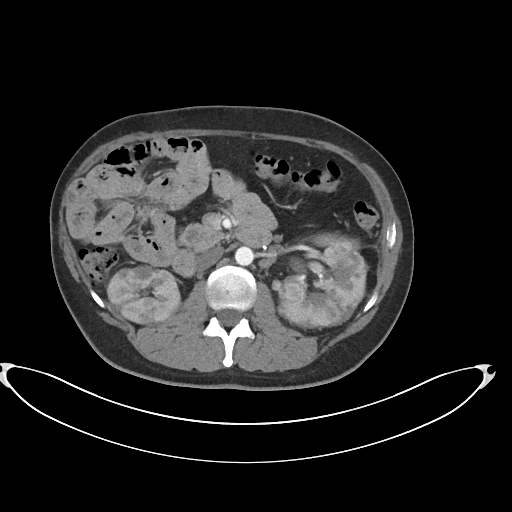Lesion: (281, 282, 303, 302), (270, 279, 283, 293)
